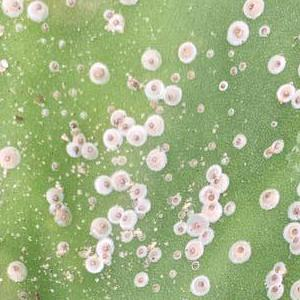Femea: (0, 149, 18, 170), (147, 149, 164, 169), (101, 129, 119, 145), (141, 52, 160, 67), (176, 44, 193, 60), (145, 116, 160, 133), (227, 26, 245, 40), (242, 2, 260, 16), (29, 4, 46, 18), (94, 178, 111, 192), (91, 68, 107, 82), (111, 111, 126, 125), (129, 185, 145, 198), (117, 120, 133, 133), (145, 81, 159, 95), (116, 175, 130, 189), (130, 129, 144, 143), (267, 57, 282, 70), (65, 144, 80, 157), (165, 89, 179, 102), (277, 86, 290, 100), (81, 145, 95, 157), (290, 91, 299, 109), (111, 17, 122, 29), (217, 80, 228, 91), (49, 62, 60, 72), (258, 26, 269, 36), (101, 10, 113, 19), (74, 135, 85, 144), (170, 73, 179, 82)
Linfa: (37, 260, 52, 276), (93, 271, 112, 282), (47, 270, 60, 279), (42, 254, 53, 262)
